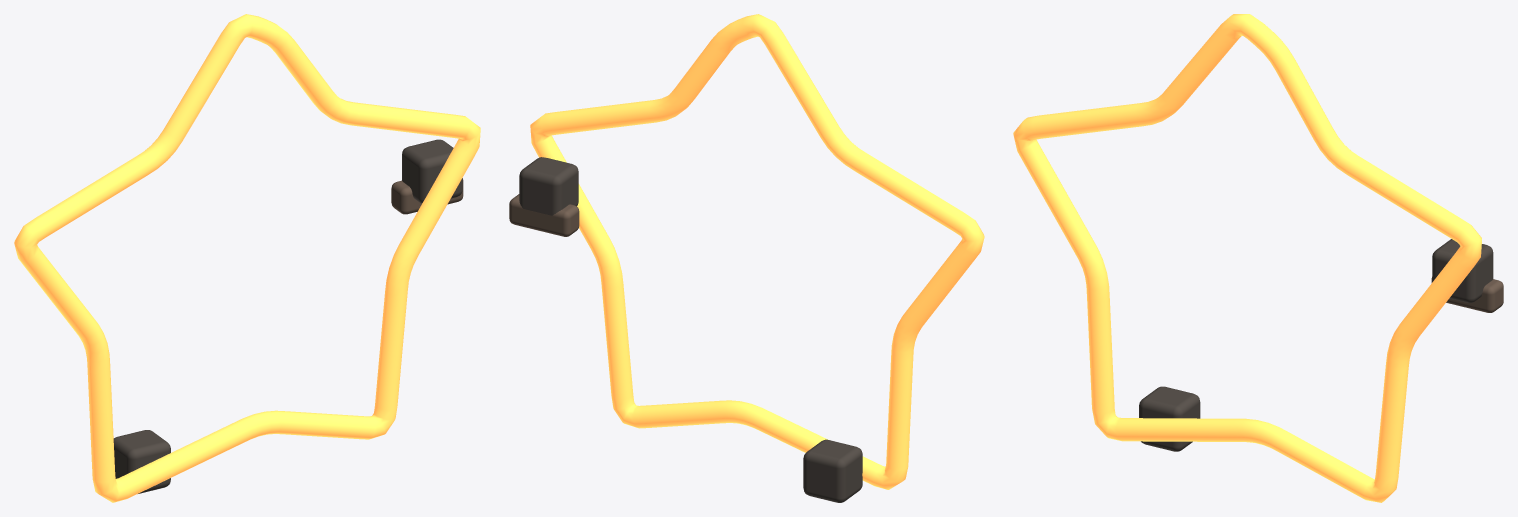
3 views of the same model, side by side, from view 1: azimuth 30°, elevation 25°; view 2: azimuth 150°, elevation 25°; view 3: azimuth 330°, elevation 25° (orthographic). The views are drawn at different scales.
Visible parts, largest first — view 1: ambient-diffuser, tube-supports, tube-feed-housing; view 2: ambient-diffuser, tube-supports, tube-feed-housing; view 3: ambient-diffuser, tube-supports, tube-feed-housing.
Part boxes in pixels (box(x1,y1,x2,y2)): ambient-diffuser: box(14, 14, 480, 502); tube-supports: box(113, 139, 462, 493); tube-feed-housing: box(391, 178, 463, 214); ambient-diffuser: box(530, 14, 984, 489); tube-supports: box(519, 157, 862, 502); tube-feed-housing: box(509, 194, 579, 236); ambient-diffuser: box(1013, 14, 1481, 502); tube-supports: box(1139, 239, 1493, 451); tube-feed-housing: box(1431, 277, 1503, 312).
Size of the model in its own units: 0.331 by 0.3127 by 0.0398.
